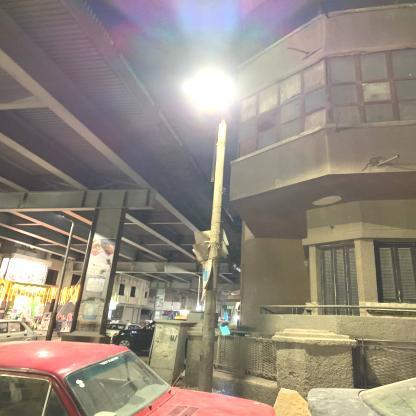light_pole: (196, 78, 229, 393)
